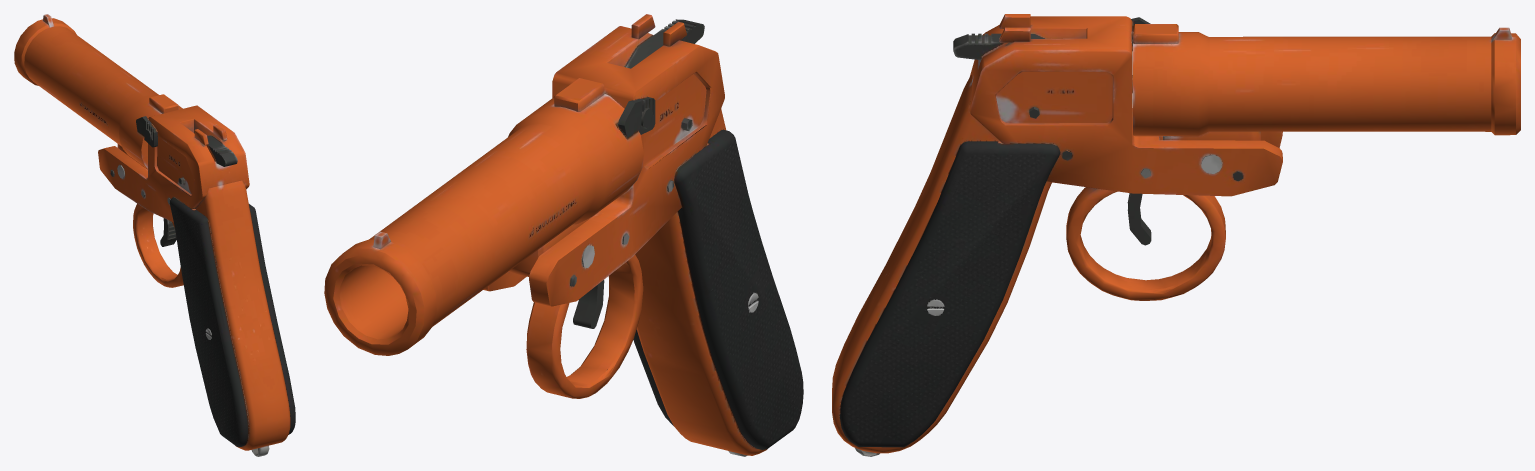
File: pistola_sinalizadora_leve.glb
3 renders of one model, left to right at view 1: azimuth 30°, elevation 25°; view 2: azimuth 150°, elevation 25°; view 3: azimuth 270°, elevation 25°, orthographic. The views are drawn at different scales.
Visible parts, largest first — view 1: pistola_sinalizadora_leve; view 2: pistola_sinalizadora_leve; view 3: pistola_sinalizadora_leve.
Part boxes in pixels (<box>): pistola_sinalizadora_leve: <box>14,14,295,456</box>; pistola_sinalizadora_leve: <box>324,14,803,456</box>; pistola_sinalizadora_leve: <box>832,14,1520,456</box>.
Bounding box in the file's own units: 0.0319 × 0.1451 × 0.2095.
Materials: 1 (1 with a texture image).
